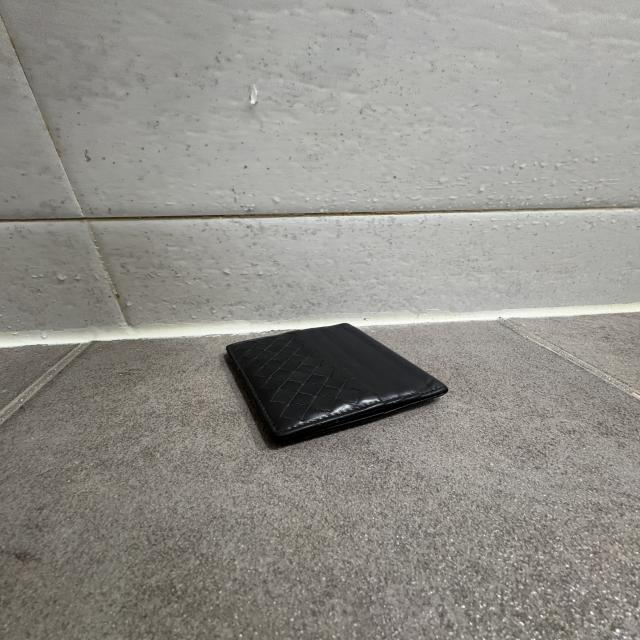wallet: (222, 321, 450, 451)
